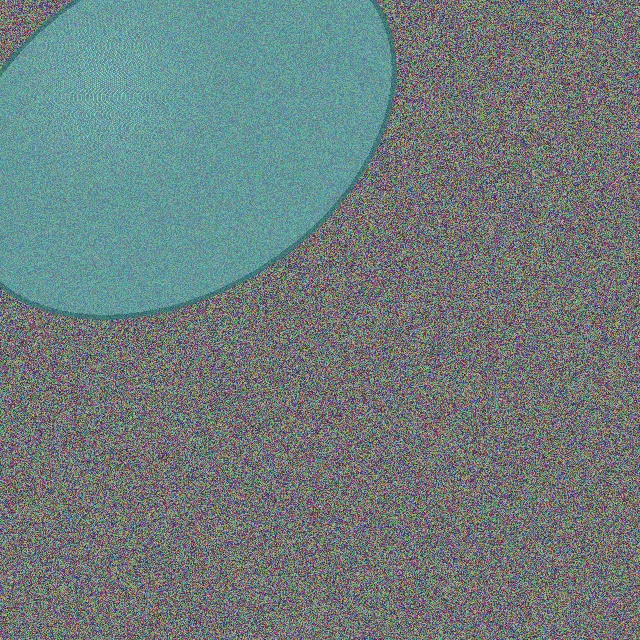lens: (0, 0, 392, 317)
